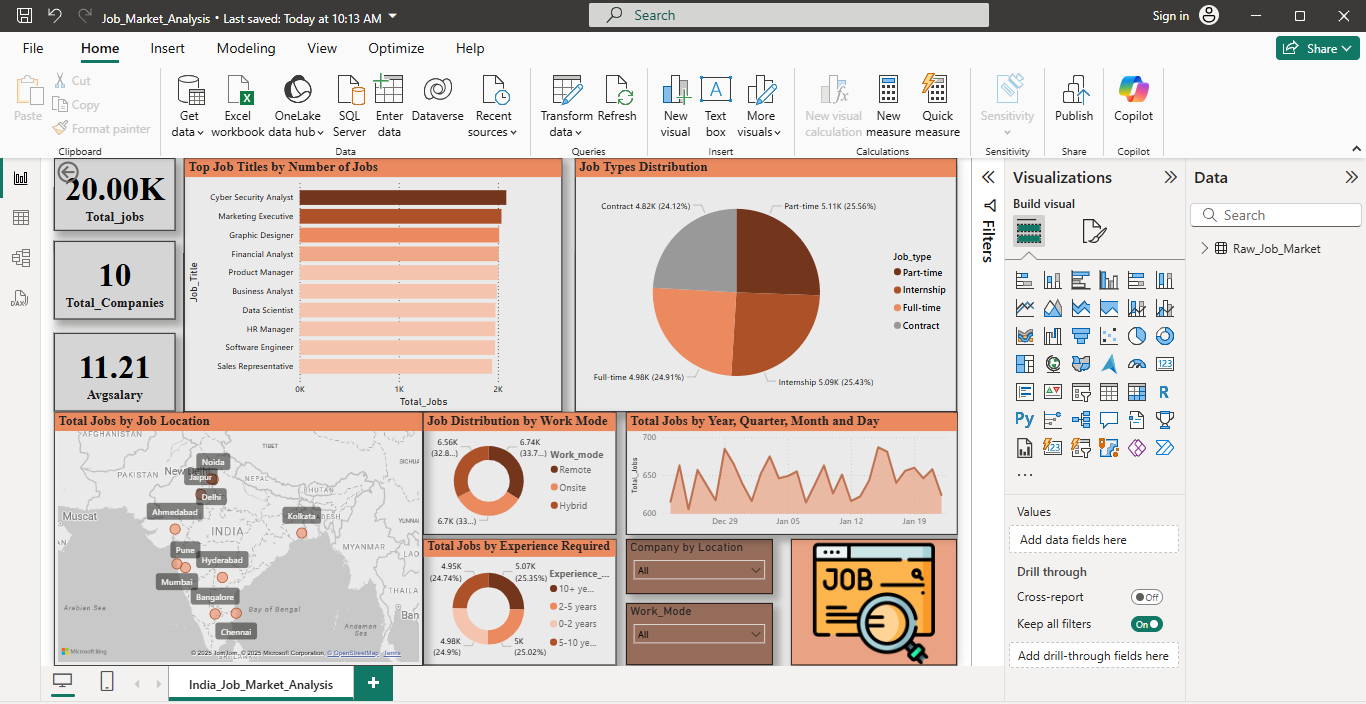

Layout of this report page (visuals, bound fields, positions):
{"tool":"powerbi","page":{"name":"India_Job_Market_Analysis","canvas":[1280,720],"ordinal":0},"visuals":[{"type":"card","fields":{"Values":["CountNonNull(Raw_Job_Market.Job_Id)"]},"box":[0,0,172.2,102.8],"z":0},{"type":"card","fields":{"Values":["Count(Raw_Job_Market.Company_name)"]},"box":[0,118.1,172.2,111.1],"z":1000},{"type":"card","fields":{"Values":["Avg(Raw_Job_Market.Average_salary)"]},"box":[0,248.6,172.2,111.1],"z":2000},{"type":"clusteredBarChart","title":"Top Job Titles by Number of Jobs","fields":{"Category":["Raw_Job_Market.Job_Title"],"Y":["CountNonNull(Raw_Job_Market.Job_Id)"]},"box":[184.7,0,536.1,359.7],"z":3000},{"type":"pieChart","title":"Job Types Distribution","fields":{"Category":["Raw_Job_Market.Job_type"],"Y":["CountNonNull(Raw_Job_Market.Job_Title)"]},"box":[738.6,0,541.4,360],"z":4000},{"type":"map","title":"Total Jobs by Job Location","fields":{"Category":["Raw_Job_Market.Job_Location"],"Size":["CountNonNull(Raw_Job_Market.Job_Title)"]},"box":[0,360,522.9,360],"z":5000},{"type":"donutChart","title":"Job Distribution by Work Mode","fields":{"Category":["Raw_Job_Market.Work_mode"],"Y":["CountNonNull(Raw_Job_Market.Job_Id)"]},"box":[522.9,360,274.3,174.3],"z":6000},{"type":"donutChart","title":"Total Jobs by Experience Required","fields":{"Category":["Raw_Job_Market.Experience_required"],"Y":["CountNonNull(Raw_Job_Market.Job_Id)"]},"box":[522.9,540,274.3,178.6],"z":7000},{"type":"slicer","title":"Company by Location","fields":{"Values":["Raw_Job_Market.Job_Location","Raw_Job_Market.Company_name","Raw_Job_Market.Job_Title"]},"box":[810.7,540,208.3,78],"z":8000},{"type":"lineChart","title":"Total Jobs by Year, Quarter, Month and Day","fields":{"Y":["CountNonNull(Raw_Job_Market.Job_Id)"],"Category":["Raw_Job_Market.Posted_date.Variation.Date Hierarchy.Year","Raw_Job_Market.Posted_date.Variation.Date Hierarchy.Quarter","Raw_Job_Market.Posted_date.Variation.Date Hierarchy.Month","Raw_Job_Market.Posted_date.Variation.Date Hierarchy.Day"]},"box":[810,360,470,174.3],"z":9000},{"type":"actionButton","box":[0,0,100,40],"z":10000},{"type":"slicer","title":"Work_Mode","fields":{"Values":["Raw_Job_Market.Job_Title","Raw_Job_Market.Work_mode"]},"box":[810.7,630.7,208.3,87.9],"z":11000},{"type":"image","box":[1044.6,540,235.3,178.6],"z":12000}]}

Visuals, with their boxes on the page's 1280x720 design canvas (x1, y1, x2, y2). These are canvas units, not pixel positions in the 1366x704 screenshot, which may show the page scaled, cropped or inside an application window:
card - CountNonNull(Raw_Job_Market.Job_Id): [x1=0, y1=0, x2=172, y2=103]
card - Count(Raw_Job_Market.Company_name): [x1=0, y1=118, x2=172, y2=229]
card - Avg(Raw_Job_Market.Average_salary): [x1=0, y1=249, x2=172, y2=360]
"Top Job Titles by Number of Jobs" clusteredBarChart: [x1=185, y1=0, x2=721, y2=360]
"Job Types Distribution" pieChart: [x1=739, y1=0, x2=1280, y2=360]
"Total Jobs by Job Location" map: [x1=0, y1=360, x2=523, y2=720]
"Job Distribution by Work Mode" donutChart: [x1=523, y1=360, x2=797, y2=534]
"Total Jobs by Experience Required" donutChart: [x1=523, y1=540, x2=797, y2=719]
"Company by Location" slicer: [x1=811, y1=540, x2=1019, y2=618]
"Total Jobs by Year, Quarter, Month and Day" lineChart: [x1=810, y1=360, x2=1280, y2=534]
actionButton: [x1=0, y1=0, x2=100, y2=40]
"Work_Mode" slicer: [x1=811, y1=631, x2=1019, y2=719]
image: [x1=1045, y1=540, x2=1280, y2=719]
